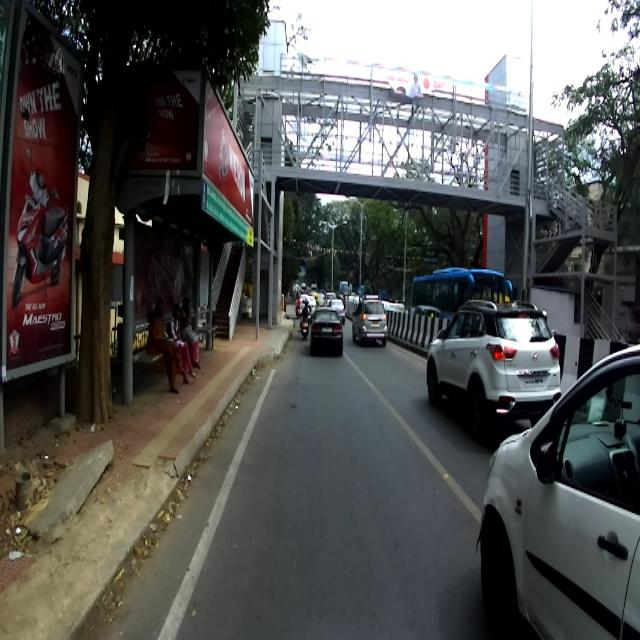Car_Hyundai: (423, 300, 561, 440)
Car_Maruti-Suzuki: (474, 344, 639, 638), (351, 292, 390, 345)
